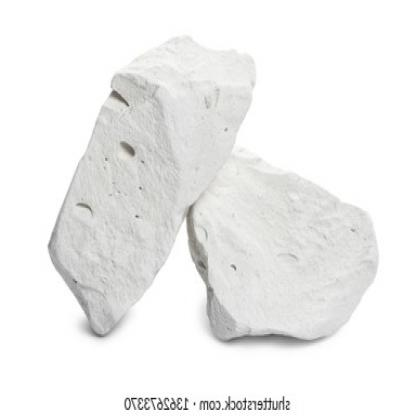Sedimentary_Chalk: (46, 29, 266, 337), (182, 141, 388, 348)
